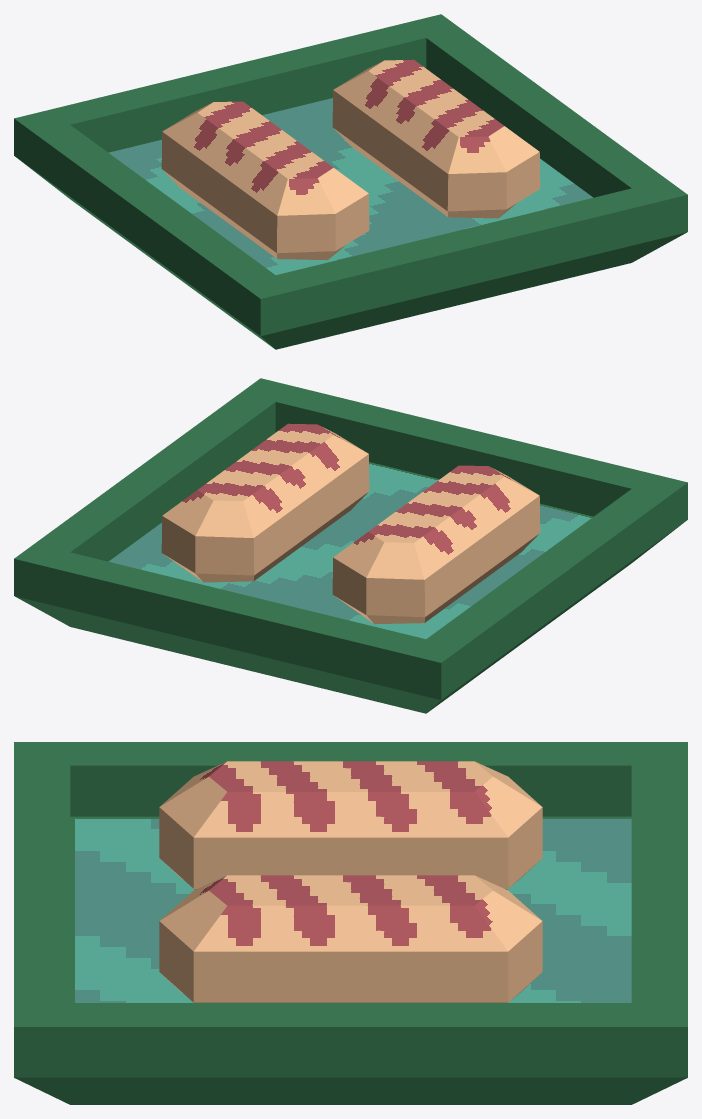
Rendered from TrayWithBread.fbx.
3 renders of one model, top to bottom at view 1: azimuth 30°, elevation 25°; view 2: azimuth 150°, elevation 25°; view 3: azimuth 270°, elevation 25°, orthographic. The views are drawn at different scales.
Visible parts, largest first — view 1: Tray, Bread, Bread.001; view 2: Tray, Bread, Bread.001; view 3: Tray, Bread.001, Bread.
Boxes of the visible parts, left/top/right/bottom form: Tray: left=14, top=14, right=687, bottom=349; Bread: left=161, top=101, right=369, bottom=260; Bread.001: left=332, top=59, right=540, bottom=218; Tray: left=14, top=378, right=687, bottom=713; Bread: left=332, top=465, right=540, bottom=624; Bread.001: left=161, top=423, right=369, bottom=582; Tray: left=14, top=742, right=687, bottom=1104; Bread.001: left=159, top=875, right=542, bottom=1002; Bread: left=159, top=761, right=542, bottom=889.
Bounding box in the file's own units: 0.6 × 0.15 × 0.6.
Materials: 2 (2 with a texture image).
